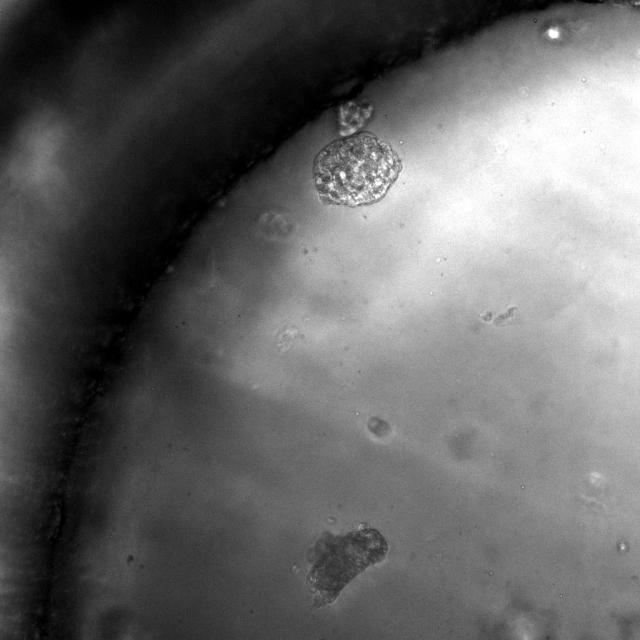organoid: (313, 99, 401, 206), (307, 525, 388, 607), (368, 416, 391, 437)
